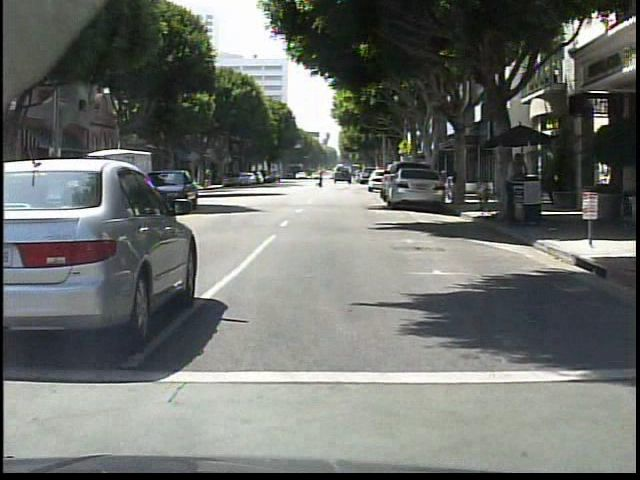person: (506, 152, 530, 226), (315, 168, 326, 188)
